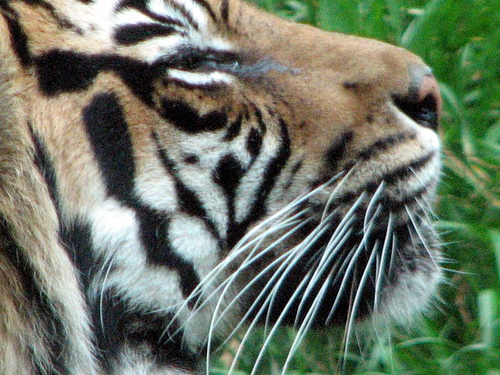Tigre: (14, 4, 454, 343)
